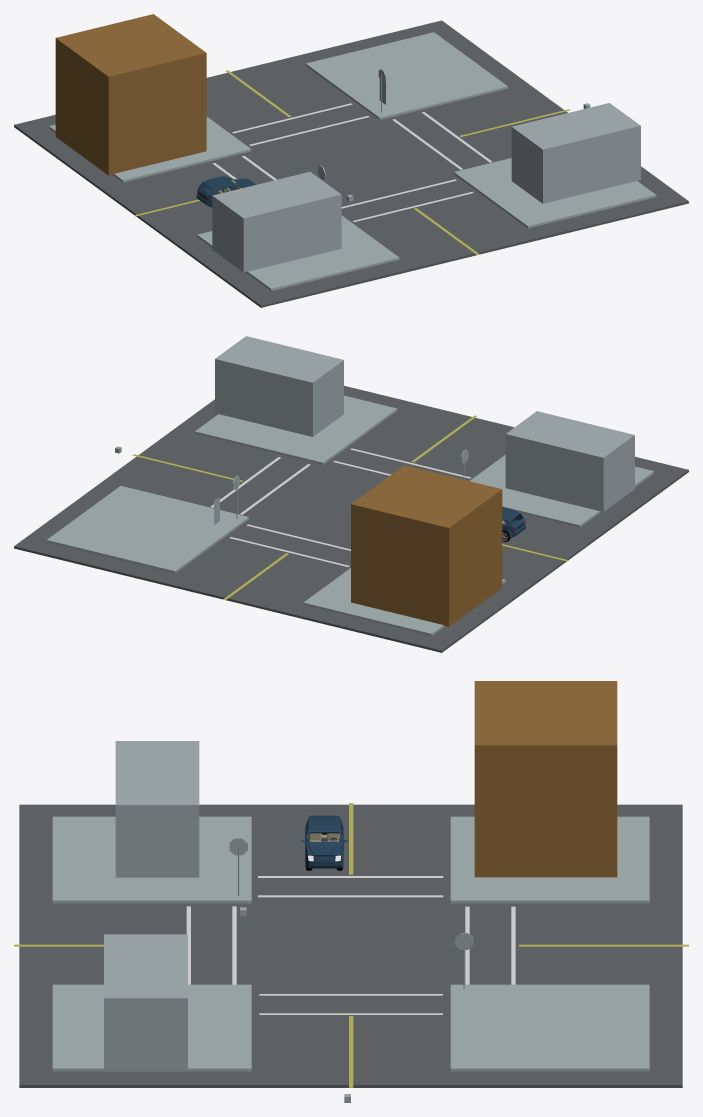
The picture shows the model from 3 angles, top to bottom: view 1: azimuth 30°, elevation 25°; view 2: azimuth 150°, elevation 25°; view 3: azimuth 270°, elevation 25°; orthographic projection. The views are drawn at different scales.
Parts seen in each view (by area): view 1: pCube3, pCube5, pasted__pCube5, pasted__pasted__pCube5, pasted__pCube2, pasted__pCube29, pasted__pCube28, pasted__pCube27, group47 pasted__polySurface3; view 2: pCube3, pCube5, pasted__pCube5, pasted__pasted__pCube5, pasted__pCube2, pasted__pCube29, pasted__pCube28, pasted__pCube27, group47 pasted__polySurface3; view 3: pCube3, pCube5, pasted__pCube2, pasted__pCube28, pasted__pCube5, pasted__pasted__pCube5, pasted__pCube29, pasted__pCube27, group47 pasted__polySurface3.
Part boxes in pixels (x1,y1,x2,y2): pCube3: (14,20,688,307); pCube5: (55,14,206,175); pasted__pCube5: (212,171,341,272); pasted__pasted__pCube5: (511,103,640,203); pasted__pCube2: (305,32,507,119); pasted__pCube29: (454,158,656,228); pasted__pCube28: (197,215,399,290); pasted__pCube27: (49,116,251,182); group47 pasted__polySurface3: (196,176,255,207); pCube3: (14,385,688,652); pCube5: (351,465,502,626); pasted__pCube5: (505,411,634,511); pasted__pasted__pCube5: (215,336,343,436); pasted__pCube2: (46,486,248,573); pasted__pCube29: (195,395,397,464); pasted__pCube28: (469,455,653,527); pasted__pCube27: (303,568,505,635); group47 pasted__polySurface3: (502,507,525,537); pCube3: (19,804,682,1087); pCube5: (474,681,617,877); pasted__pCube2: (450,984,649,1071); pasted__pCube28: (52,816,251,903); pasted__pCube5: (115,741,199,877); pasted__pasted__pCube5: (104,934,187,1070); pasted__pCube29: (52,984,251,1071); pasted__pCube27: (450,816,649,903); group47 pasted__polySurface3: (301,815,347,868).
Bounding box in the file's own units: 10.59 × 2.3 × 10.18.
